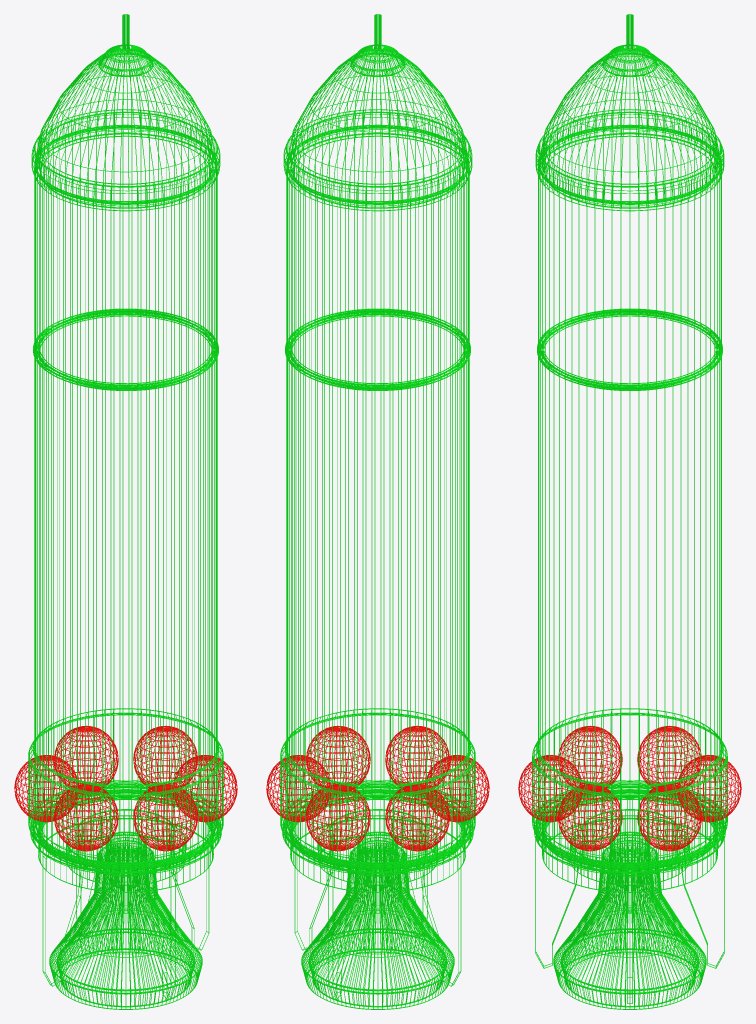
File: stasis-missile-highlight-tachyon-dispersion-pods.glb
3 renders of one model, left to right at view 1: azimuth 30°, elevation 25°; view 2: azimuth 150°, elevation 25°; view 3: azimuth 270°, elevation 25°, orthographic.
Visible parts, largest first — view 1: chassis technical wire, navigation-and-targeting technical wire, main-thruster technical wire, tachyon-dispersion-pods technical wire; view 2: chassis technical wire, navigation-and-targeting technical wire, main-thruster technical wire, tachyon-dispersion-pods technical wire; view 3: chassis technical wire, navigation-and-targeting technical wire, main-thruster technical wire, tachyon-dispersion-pods technical wire.
Boxes of the visible parts, box(x1,y1,x2,y2) form: chassis technical wire: box(28, 308, 223, 999); navigation-and-targeting technical wire: box(31, 14, 220, 386); main-thruster technical wire: box(49, 815, 202, 1009); tachyon-dispersion-pods technical wire: box(14, 725, 237, 851); chassis technical wire: box(280, 308, 475, 999); navigation-and-targeting technical wire: box(283, 14, 472, 386); main-thruster technical wire: box(301, 815, 454, 1009); tachyon-dispersion-pods technical wire: box(266, 725, 489, 851); chassis technical wire: box(532, 308, 727, 1003); navigation-and-targeting technical wire: box(535, 14, 724, 385); main-thruster technical wire: box(553, 815, 706, 1009); tachyon-dispersion-pods technical wire: box(518, 725, 741, 851).
Bounding box in the file's own units: 1.2 × 6.31 × 1.32.
